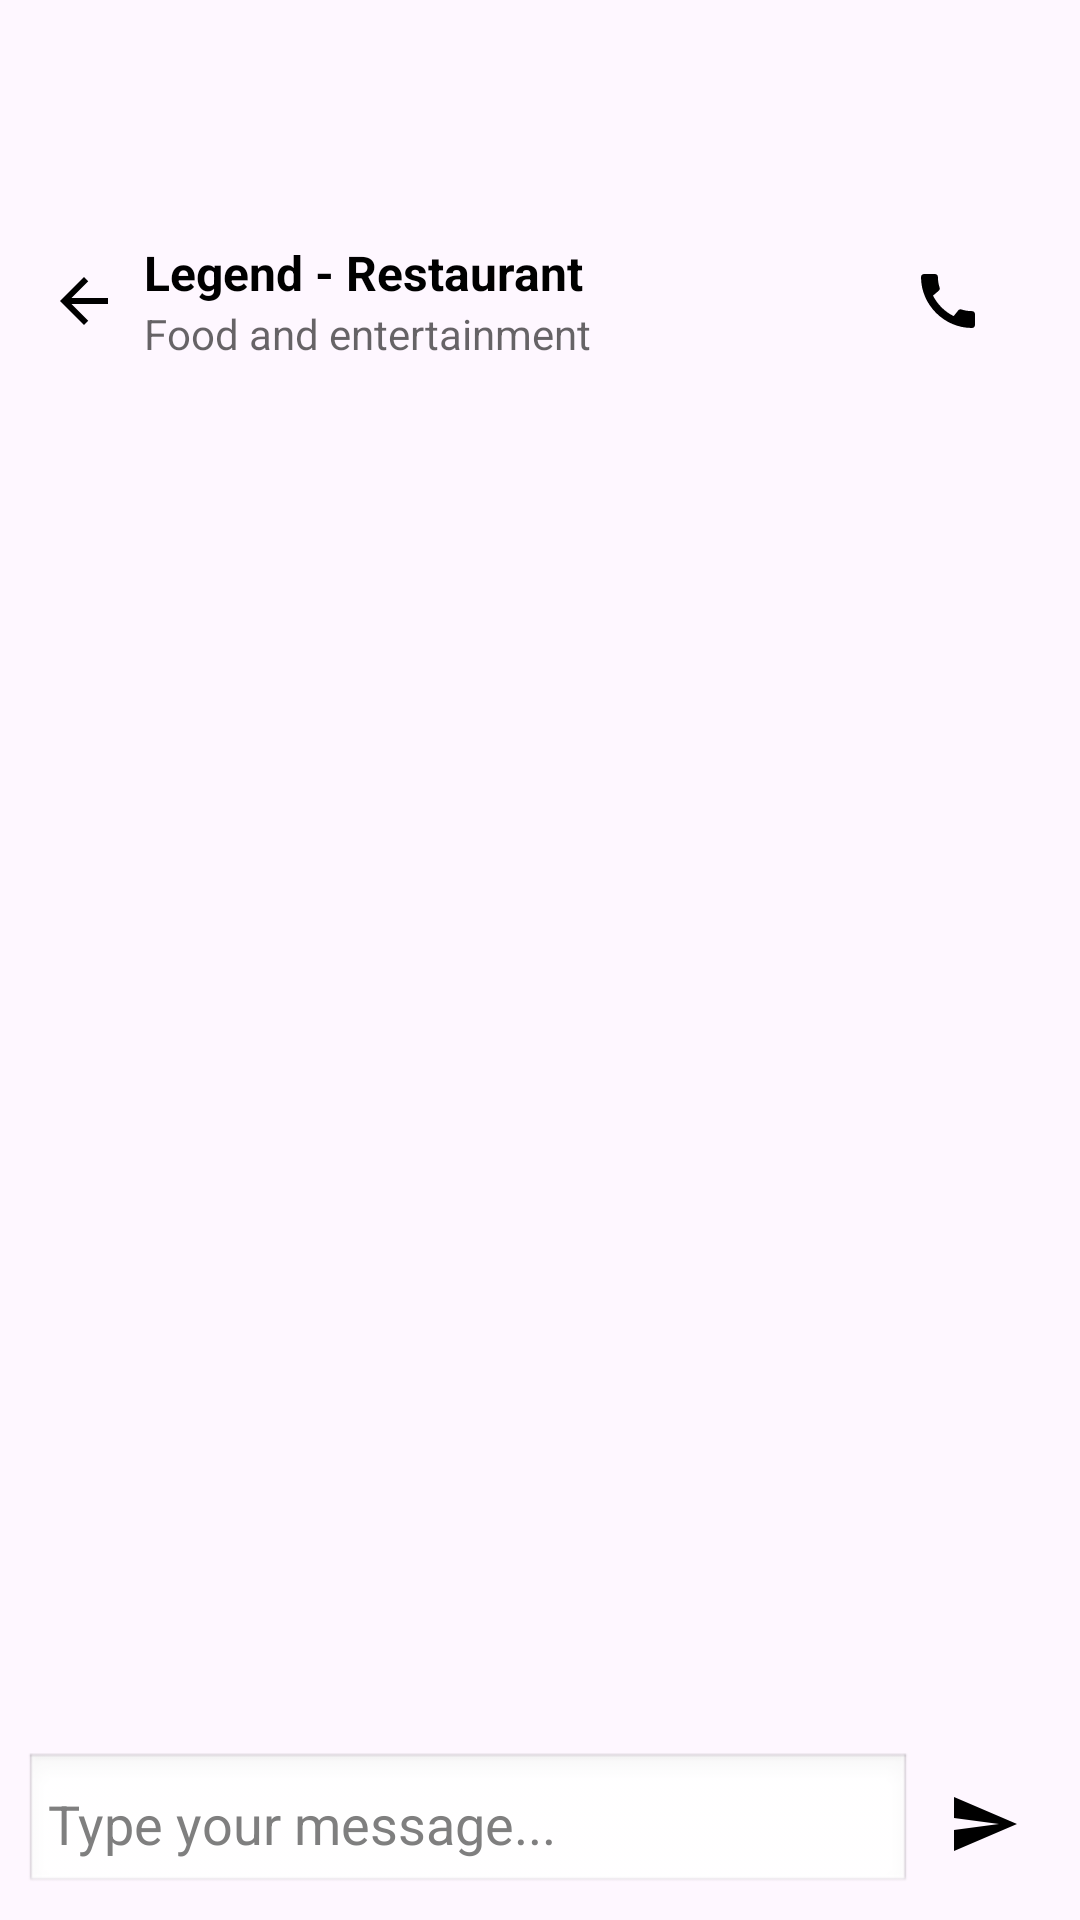

Screen size 1080x1920. Icon name, then its center in pixels as point (x, y):
Back: point (84, 301)
Call: point (948, 301)
Send: point (985, 1824)
